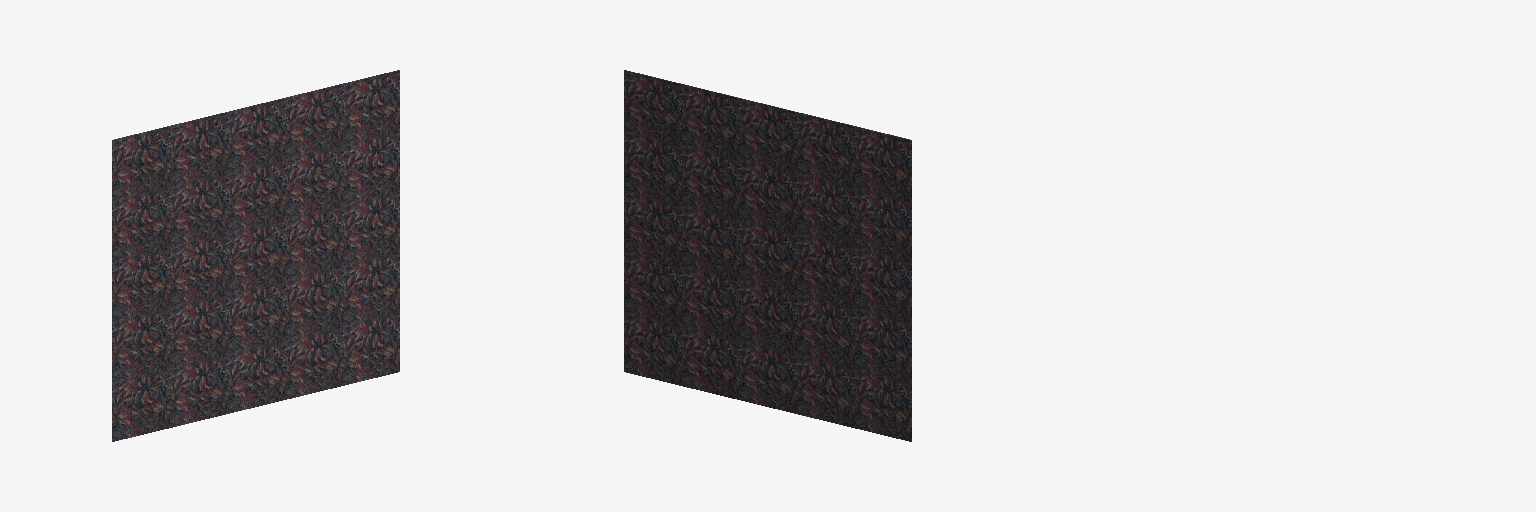
3 views of the same model, side by side, from view 1: azimuth 30°, elevation 25°; view 2: azimuth 150°, elevation 25°; view 3: azimuth 270°, elevation 25° (orthographic).
Visible parts, largest first — view 1: Box003; view 2: Box003; view 3: none.
Part boxes in pixels (x1,y1,x2,y2): Box003: (112, 70, 399, 441); Box003: (624, 70, 911, 441).
Size of the model in its own units: 3500 by 3500 by 10.
1 materials, 1 textured.